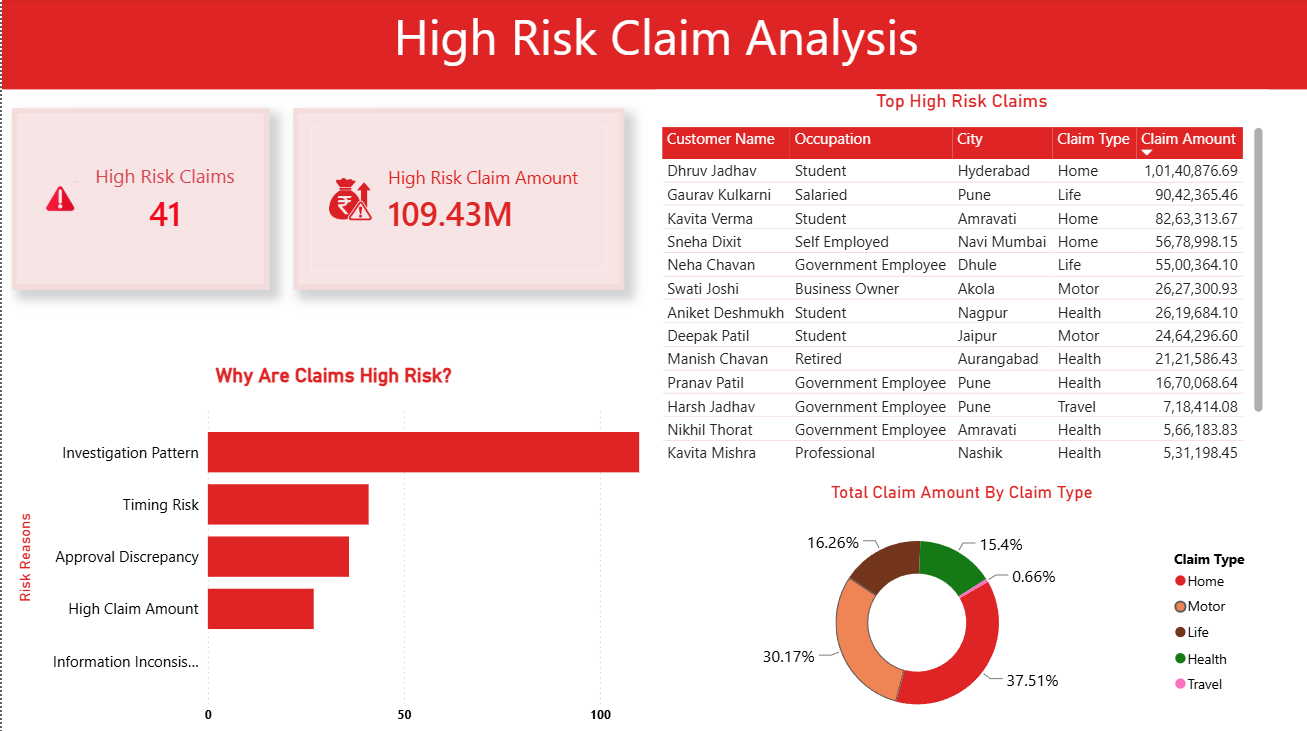

This screenshot's page, from the dashboard's own definition file:
{"tool":"powerbi","page":{"name":"High Risk Analysis","canvas":[1280,720],"ordinal":1},"visuals":[{"type":"textbox","box":[9.3,0,1270.7,90.6],"z":0},{"type":"tableEx","title":"Top High Risk Claims","fields":{"Values":["high_risk_claims.customer_name","high_risk_claims.occupation","high_risk_claims.location","high_risk_claims.claim_type","high_risk_claims.claim_amount_inr"]},"box":[639.5,90.5,599.2,385.2],"z":1000},{"type":"cardVisual","fields":{"Data":["Count(high_risk_claims.claim_id)"]},"box":[9.6,108.4,251.9,177.3],"z":2000},{"type":"barChart","title":"Why Are Claims High Risk?","fields":{"Y":["Risk Reasons.Risk Reason Count"],"Category":["Risk Reasons.Risk Reasons"]},"box":[9.8,359.5,629.8,360.7],"z":4000},{"type":"donutChart","title":"Total Claim Amount By Claim Type","fields":{"Y":["Sum(high_risk_claims.claim_amount_inr)"],"Category":["high_risk_claims.claim_type"]},"box":[640,475,599,245],"z":5000},{"type":"cardVisual","fields":{"Data":["clean_claims.High Risk Claim Amount"]},"box":[284.9,108.8,324.1,177.3],"z":5001}]}

Visuals, with their boxes in screenshot pixels (x1, y1, x2, y2), scaled from the page's 1280x720 canvas onto the 1307x731 screenshot:
textbox: (left=9, top=0, right=1306, bottom=92)
"Top High Risk Claims" tableEx: (left=653, top=92, right=1265, bottom=483)
cardVisual - Count(high_risk_claims.claim_id): (left=10, top=110, right=267, bottom=290)
"Why Are Claims High Risk?" barChart: (left=10, top=365, right=653, bottom=730)
"Total Claim Amount By Claim Type" donutChart: (left=654, top=482, right=1265, bottom=730)
cardVisual - clean_claims.High Risk Claim Amount: (left=291, top=110, right=622, bottom=290)
